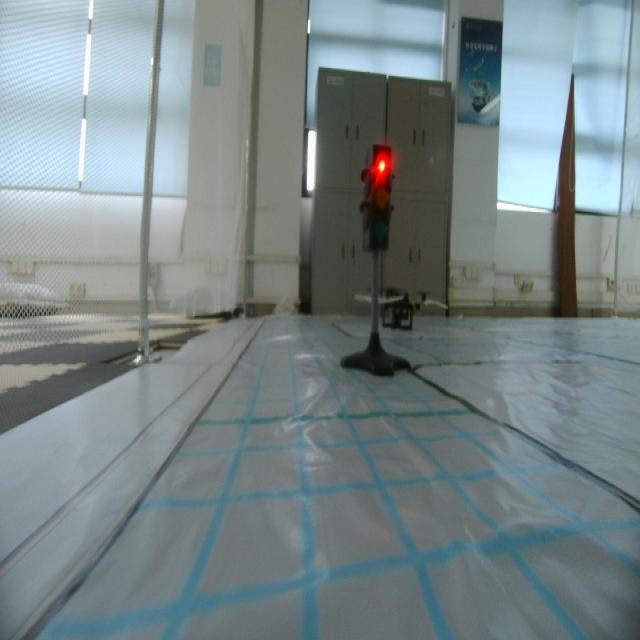red: (361, 140, 397, 261)
